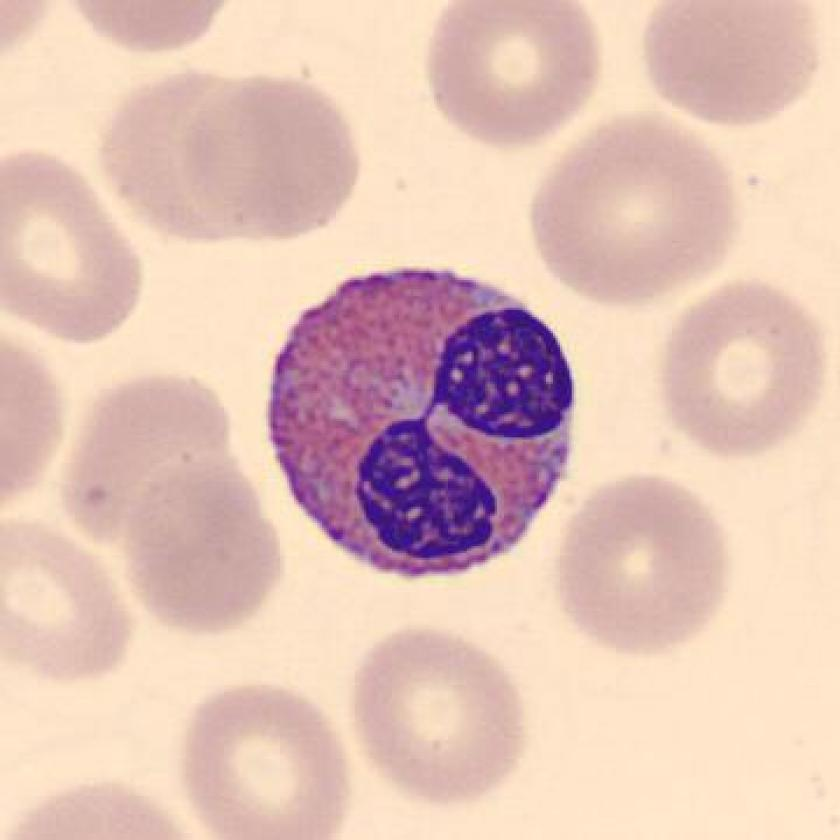eosinophil: (251, 253, 594, 596)
